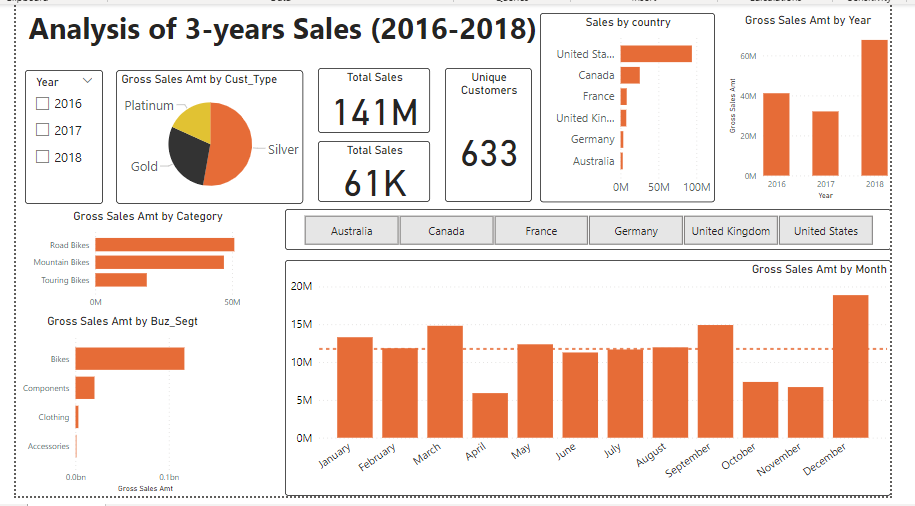

Layout of this report page (visuals, bound fields, positions):
{"tool":"powerbi","page":{"name":"Page 2","canvas":[1280,720],"ordinal":0},"visuals":[{"type":"slicer","fields":{"Values":["Sheet1.SalesDate.Variation.Date Hierarchy.Year"]},"box":[13.2,96.6,114.1,196.1],"z":0},{"type":"textbox","box":[13.2,0,812.2,67.3],"z":1000},{"type":"pieChart","fields":{"Y":["Sum(Sheet1.Gross Sales Amt)"],"Category":["Sheet1.Cust_Type"]},"box":[146.3,96.6,273.7,196.1],"z":2000},{"type":"card","title":"Total Sales","fields":{"Values":["Sum(Sheet1.Gross Sales Amt)"]},"box":[442,93.7,163.9,95.1],"z":3000},{"type":"card","title":"Unique Customers","fields":{"Values":["Count(Sheet1.Customer)"]},"box":[627.8,93.7,127.3,196.1],"z":4000},{"type":"clusteredBarChart","title":"Sales by country","fields":{"Category":["Sheet1.Region"],"Y":["Sum(Sheet1.Gross Sales Amt)"]},"box":[766.8,13.2,256.1,276.6],"z":5000},{"type":"slicer","title":"Region","fields":{"Values":["Sheet1.Region"]},"box":[393.7,300,886.8,60],"z":6000},{"type":"clusteredColumnChart","fields":{"Category":["Sheet1.SalesDate.Variation.Date Hierarchy.Year"],"Y":["Sum(Sheet1.Gross Sales Amt)"]},"box":[1037.6,13.2,242.9,276.6],"z":7000},{"type":"clusteredBarChart","fields":{"Y":["Sum(Sheet1.Gross Sales Amt)"],"Category":["Sheet1.Buz_Segt"]},"box":[0,453.7,311.7,266.3],"z":8000},{"type":"clusteredBarChart","fields":{"Y":["Sum(Sheet1.Gross Sales Amt)"],"Category":["Sheet1.Category"]},"box":[13.2,300,360,153.7],"z":9000},{"type":"clusteredColumnChart","fields":{"Category":["Sheet1.SalesDate.Variation.Date Hierarchy.Month"],"Y":["Sum(Sheet1.Gross Sales Amt)"]},"box":[393.7,374.6,886.8,345.4],"z":10000},{"type":"card","title":"Total Sales","fields":{"Values":["CountNonNull(Sheet1.Gross Sales Amt)"]},"box":[442,200.5,163.9,89.3],"z":11000}]}

Visuals, with their boxes in screenshot pixels (x1, y1, x2, y2), scaled from the page's 1280x720 canvas onto the 915x506 screenshot:
slicer - Sheet1.SalesDate.Variation.Date Hierarchy.Year: [9, 68, 91, 206]
textbox: [9, 0, 590, 47]
pieChart - Sum(Sheet1.Gross Sales Amt) x Sheet1.Cust_Type: [105, 68, 300, 206]
"Total Sales" card: [316, 66, 433, 133]
"Unique Customers" card: [449, 66, 540, 204]
"Sales by country" clusteredBarChart: [548, 9, 731, 204]
"Region" slicer: [281, 211, 914, 253]
clusteredColumnChart - Sheet1.SalesDate.Variation.Date Hierarchy.Year x Sum(Sheet1.Gross Sales Amt): [742, 9, 914, 204]
clusteredBarChart - Sum(Sheet1.Gross Sales Amt) x Sheet1.Buz_Segt: [0, 319, 223, 505]
clusteredBarChart - Sum(Sheet1.Gross Sales Amt) x Sheet1.Category: [9, 211, 267, 319]
clusteredColumnChart - Sheet1.SalesDate.Variation.Date Hierarchy.Month x Sum(Sheet1.Gross Sales Amt): [281, 263, 914, 505]
"Total Sales" card: [316, 141, 433, 204]
